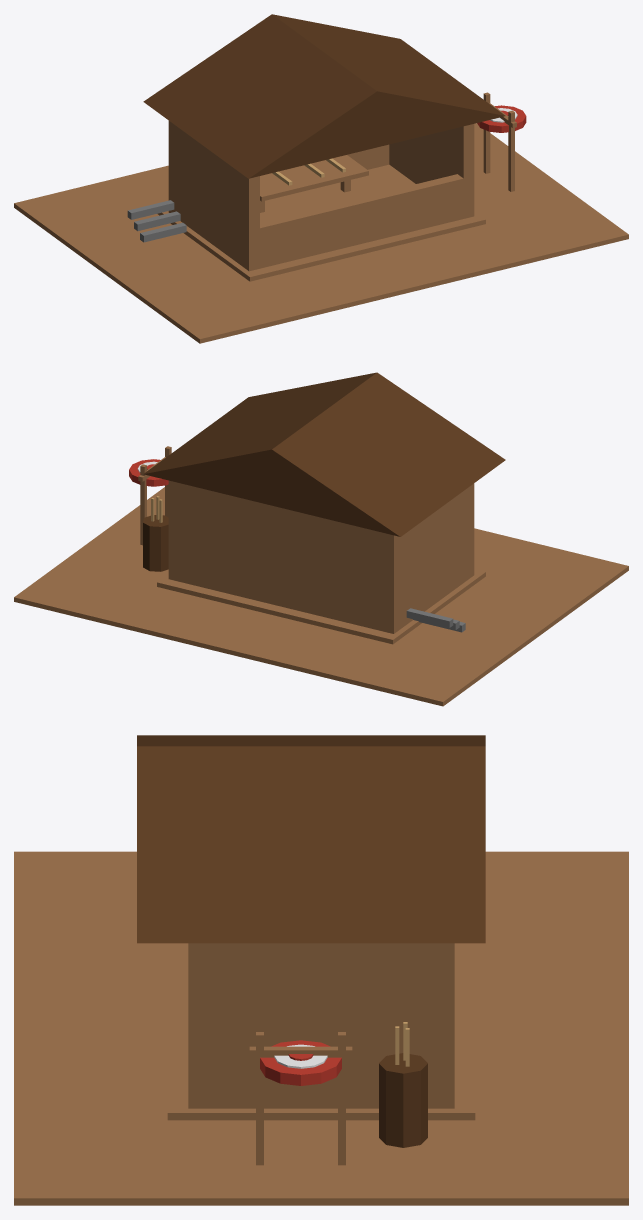
File: fletchers_workshop.glb
3 views of the same model, one above another, from view 1: azimuth 30°, elevation 25°; view 2: azimuth 150°, elevation 25°; view 3: azimuth 270°, elevation 25° (orthographic). The views are drawn at different scales.
Visible parts, largest first — view 1: Ground, Roof, Half_Wall, Left_Wall, Floor, Right_Wall, Bench, Back_Wall, Target_Outer, Easel_L, Iron_2, Iron_0 (+1 smaller); view 2: Ground, Roof, Back_Wall, Left_Wall, Floor, QuiverBarrel, Right_Wall, Iron_2; view 3: Ground, Roof, Right_Wall, Floor, QuiverBarrel, Target_Outer, Easel_L, Easel_R, Easel_Bar.
Part boxes in pixels (x1=…): Ground: x1=14, y1=123, x2=628, y2=343; Roof: x1=143, y1=14, x2=505, y2=178; Half_Wall: x1=254, y1=174, x2=468, y2=269; Left_Wall: x1=168, y1=121, x2=259, y2=271; Floor: x1=157, y1=164, x2=485, y2=281; Right_Wall: x1=389, y1=124, x2=474, y2=217; Bench: x1=260, y1=155, x2=368, y2=201; Back_Wall: x1=347, y1=144, x2=389, y2=169; Target_Outer: x1=477, y1=105, x2=526, y2=132; Easel_L: x1=508, y1=110, x2=514, y2=191; Iron_2: x1=127, y1=200, x2=174, y2=219; Iron_0: x1=140, y1=222, x2=186, y2=242; Ground: x1=14, y1=487, x2=628, y2=706; Roof: x1=143, y1=372, x2=505, y2=536; Back_Wall: x1=174, y1=482, x2=388, y2=632; Left_Wall: x1=387, y1=483, x2=474, y2=633; Floor: x1=157, y1=569, x2=485, y2=644; QuiverBarrel: x1=143, y1=515, x2=168, y2=571; Right_Wall: x1=168, y1=480, x2=173, y2=580; Iron_2: x1=406, y1=608, x2=453, y2=627; Ground: x1=14, y1=851, x2=628, y2=1205; Roof: x1=137, y1=735, x2=485, y2=943; Right_Wall: x1=188, y1=943, x2=454, y2=1108; Floor: x1=167, y1=943, x2=475, y2=1120; QuiverBarrel: x1=379, y1=1053, x2=427, y2=1147; Target_Outer: x1=260, y1=1040, x2=341, y2=1085; Easel_L: x1=256, y1=1032, x2=263, y2=1165; Easel_R: x1=338, y1=1032, x2=345, y2=1165; Easel_Bar: x1=249, y1=1046, x2=352, y2=1057.
Bounding box in the file's own units: 4 × 1.54 × 3.
